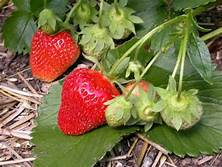Fresa: (56, 63, 123, 141), (27, 25, 83, 87)
